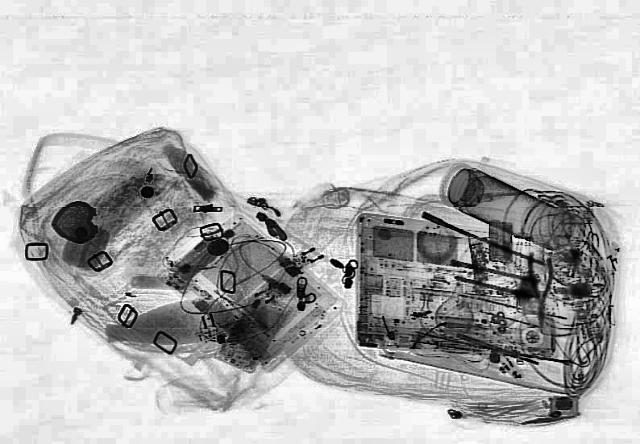Pliers: (525, 251, 555, 333)
